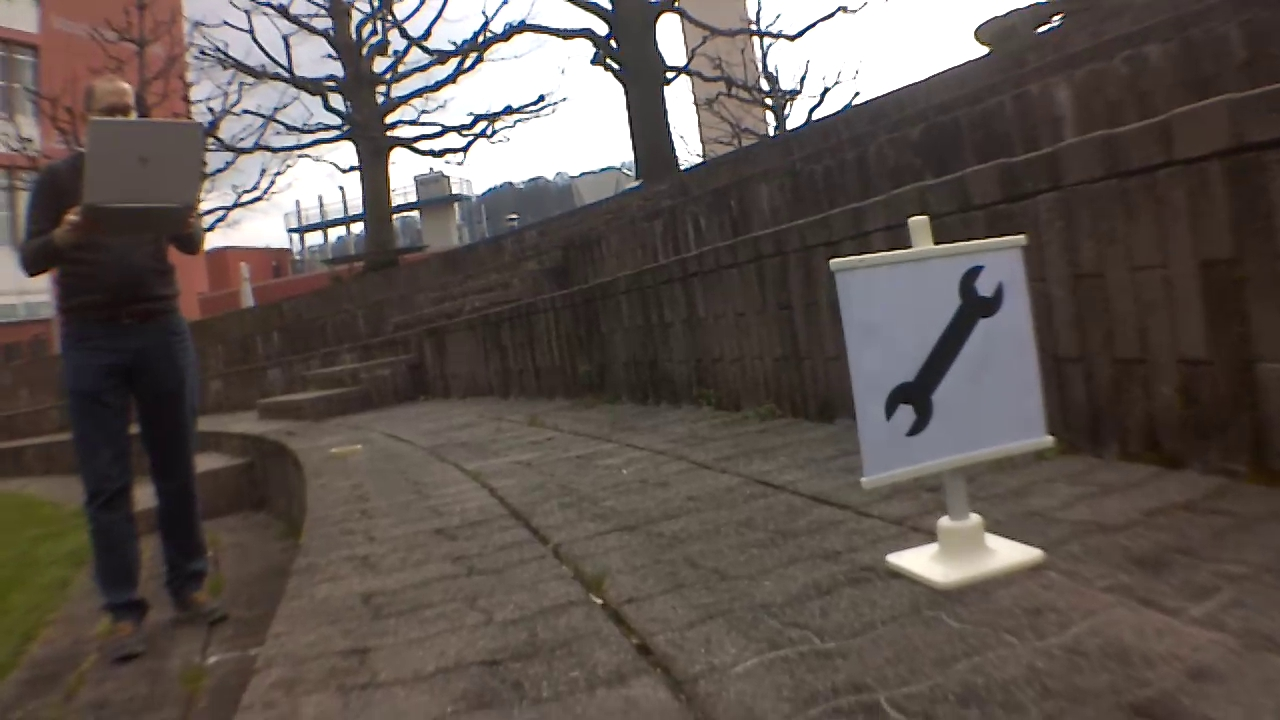wrench: (879, 266, 1007, 440)
